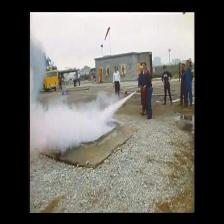smoke: (30, 38, 115, 168)
